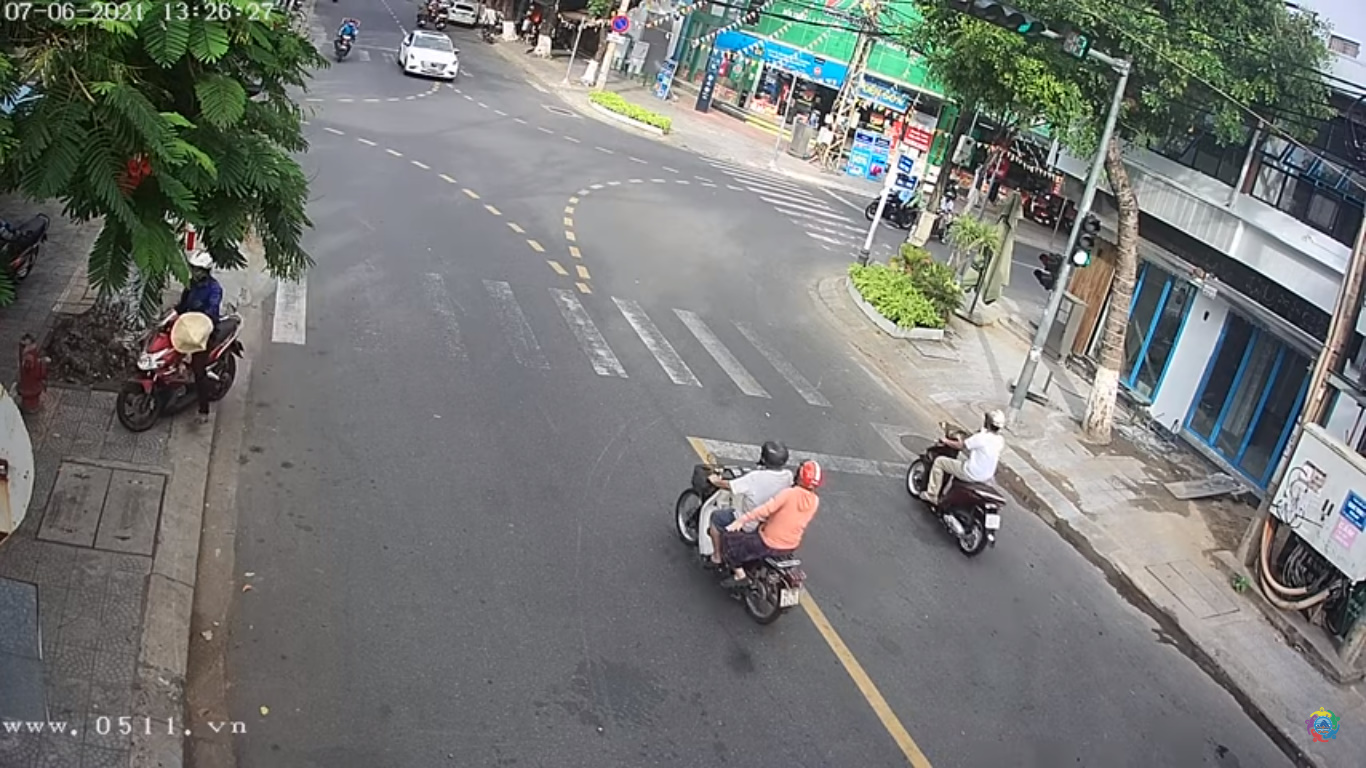car: (398, 31, 460, 81)
